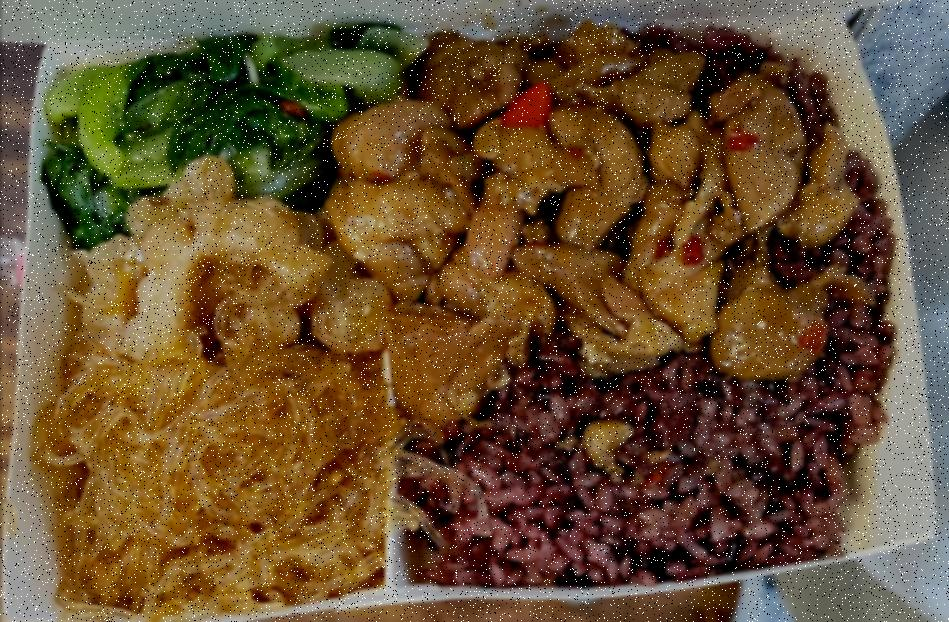big grilled chicken leg: (0, 4, 938, 622)
braised fish: (403, 28, 886, 582)
braised fish fillet: (30, 352, 384, 614), (48, 21, 404, 238), (74, 158, 344, 358)
braised pork: (329, 28, 860, 421)
